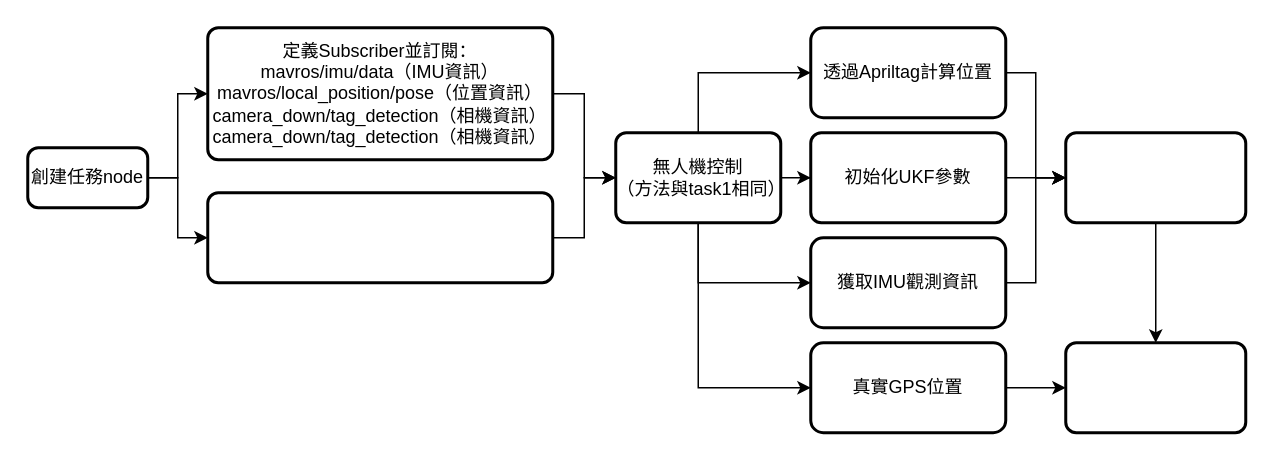
Image size: 1272x459. Some labels were removed from this diagram. Here are the shapes that lost their labels. From the top down, the box of each, then its label:
(1064, 130, 1246, 224): UKF
(206, 190, 554, 284): 定義Publisher用於發布： ukf/positoin（UKF） local/position（GPS位置）
(1064, 340, 1246, 434): data_saver儲存資料
